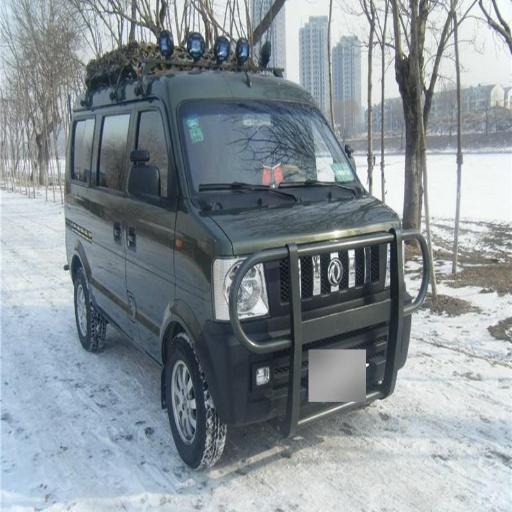front_bumper: (208, 231, 396, 423)
front_glass: (179, 99, 358, 187)
front_right_door: (116, 204, 171, 342), (124, 105, 172, 207)
front_right_light: (227, 258, 267, 316)
